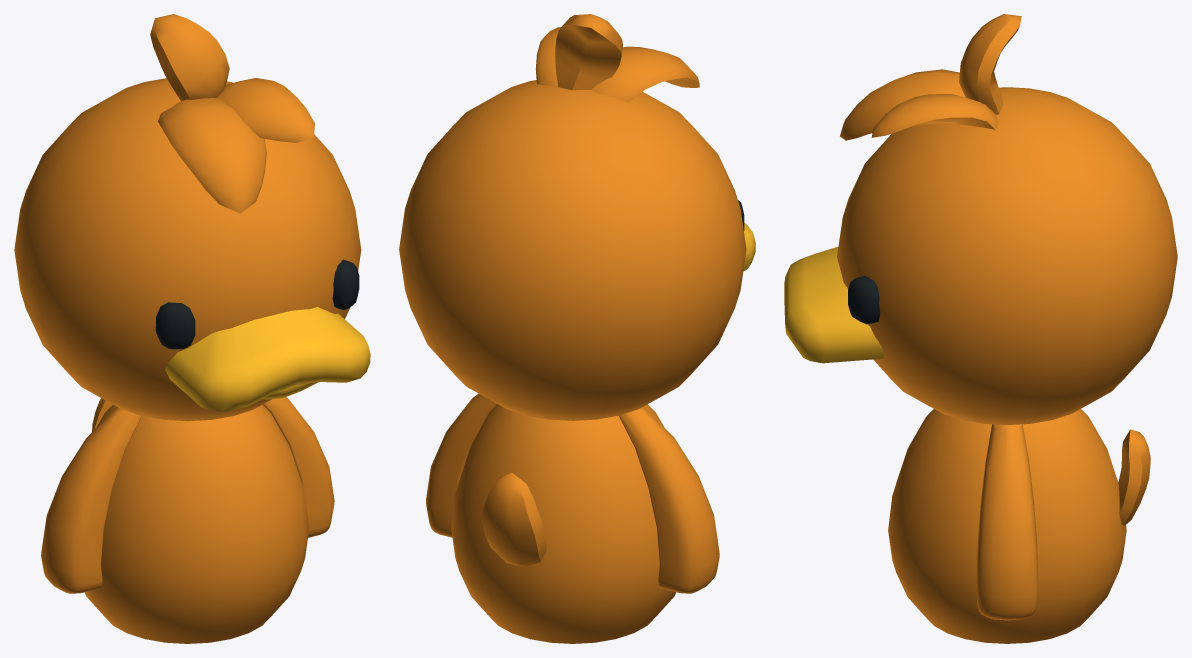
The model's file is duck.glb.
3 views of the same model, side by side, from view 1: azimuth 30°, elevation 25°; view 2: azimuth 150°, elevation 25°; view 3: azimuth 270°, elevation 25° (orthographic).
Visible parts, largest first — view 1: character_duckHead, character_duck, character_duckArmRight, character_duckArmLeft; view 2: character_duckHead, character_duck, character_duckArmRight, character_duckArmLeft; view 3: character_duckHead, character_duck, character_duckArmLeft.
Boxes of the visible parts, x1,y1,x2,y2 form: character_duckHead: (14, 14, 370, 421); character_duck: (84, 398, 309, 643); character_duckArmRight: (41, 407, 141, 593); character_duckArmLeft: (263, 397, 334, 537); character_duckHead: (399, 14, 755, 420); character_duck: (451, 404, 675, 643); character_duckArmRight: (619, 406, 719, 593); character_duckArmLeft: (426, 393, 497, 537); character_duckHead: (784, 14, 1177, 424); character_duck: (888, 409, 1150, 643); character_duckArmLeft: (976, 424, 1038, 620).
Size of the model in its own units: 1 by 1.89 by 1.15.
